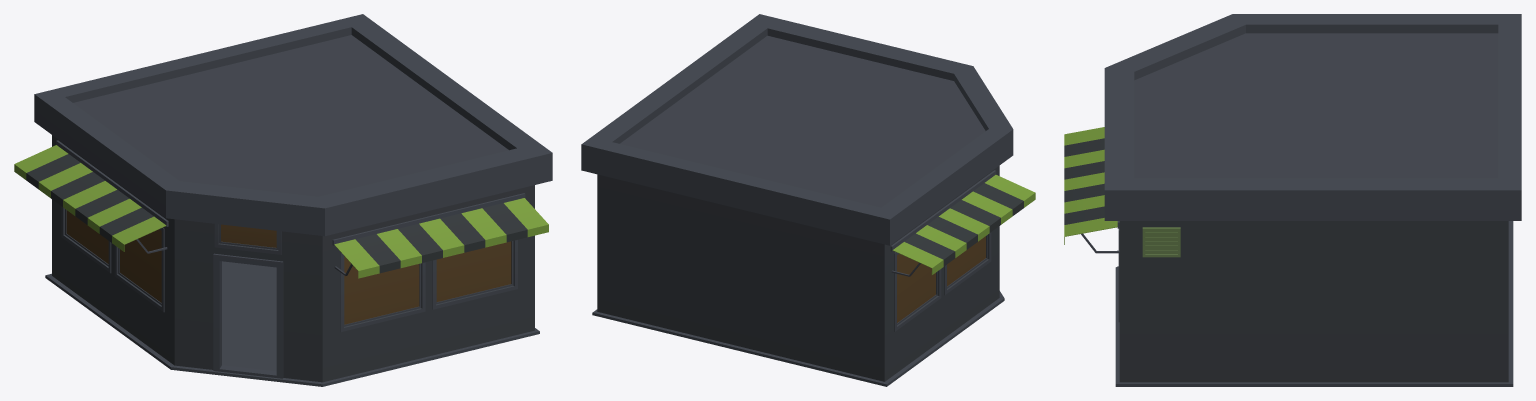
File: SmallHouse_11.fbx
The picture shows the model from 3 angles, left to right: view 1: azimuth 30°, elevation 25°; view 2: azimuth 150°, elevation 25°; view 3: azimuth 270°, elevation 25°; orthographic projection. The views are drawn at different scales.
Visible parts, largest first — view 1: SmallHouse_11; view 2: SmallHouse_11; view 3: SmallHouse_11.
Part boxes in pixels (x1=…): SmallHouse_11: x1=14, y1=14, x2=552, y2=386; SmallHouse_11: x1=581, y1=14, x2=1035, y2=386; SmallHouse_11: x1=1064, y1=14, x2=1521, y2=386.
Bounding box in the file's own units: 7.08 × 3.42 × 7.06.
